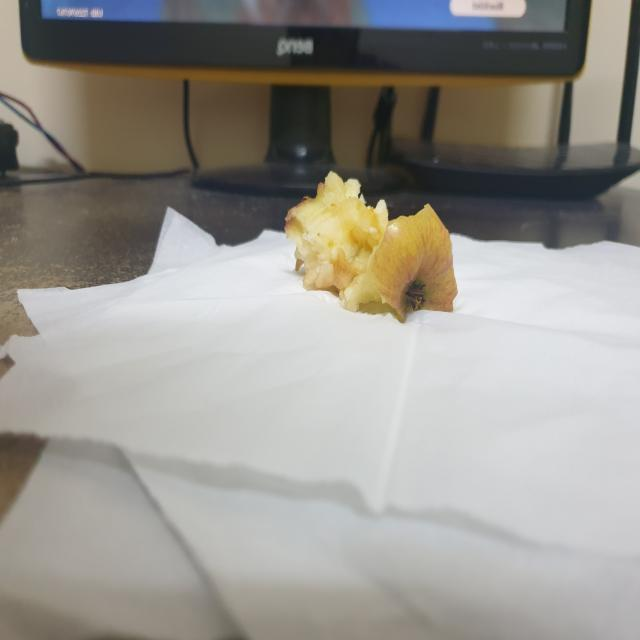apple: (274, 165, 464, 335)
